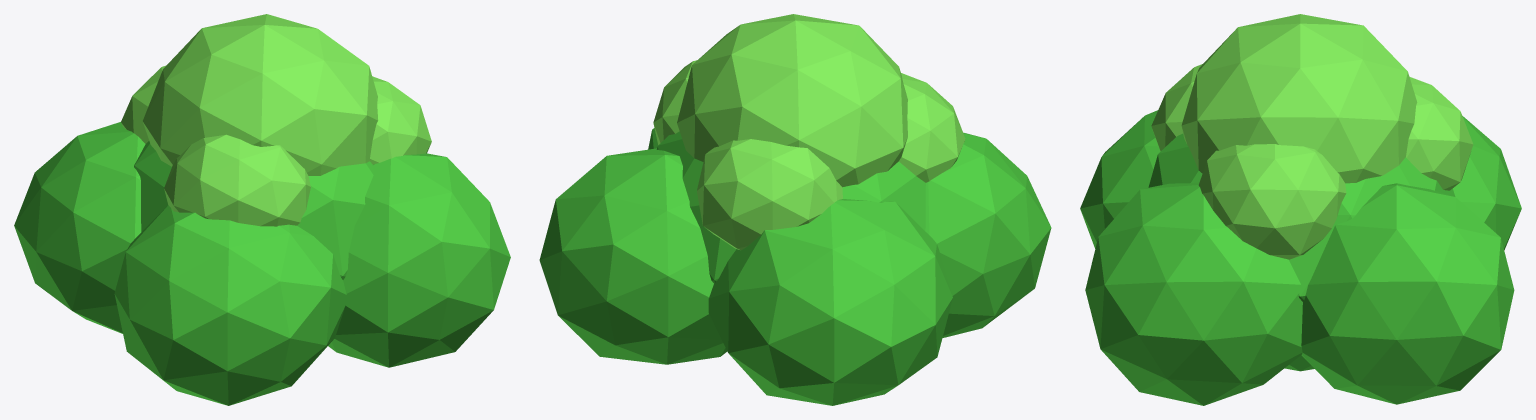
The model's file is CloverLeaves.obj.
3 views of the same model, side by side, from view 1: azimuth 30°, elevation 25°; view 2: azimuth 150°, elevation 25°; view 3: azimuth 270°, elevation 25° (orthographic). The views are drawn at different scales.
Visible parts, largest first — view 1: CloverLeaves_Foliage, CloverLeaves_FoliageLight; view 2: CloverLeaves_Foliage, CloverLeaves_FoliageLight; view 3: CloverLeaves_Foliage, CloverLeaves_FoliageLight.
Boxes of the visible parts, x1,y1,x2,y2 form: CloverLeaves_Foliage: (14, 122, 510, 405); CloverLeaves_FoliageLight: (121, 14, 431, 226); CloverLeaves_Foliage: (539, 128, 1051, 405); CloverLeaves_FoliageLight: (653, 14, 965, 250); CloverLeaves_Foliage: (1080, 110, 1521, 405); CloverLeaves_FoliageLight: (1151, 14, 1473, 259).
Bounding box in the file's own units: 3.35 × 2.83 × 3.4.
